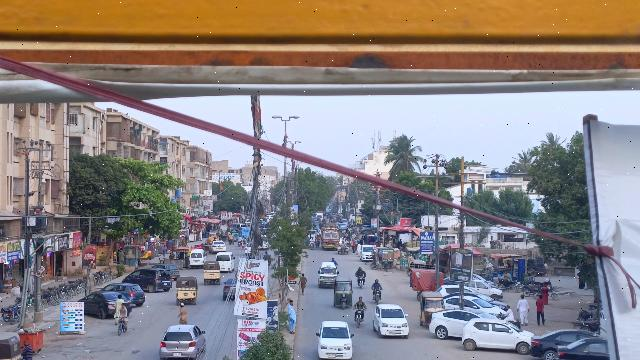Bike: (354, 307, 367, 327), (371, 289, 384, 306), (356, 277, 367, 291)
Car: (461, 317, 531, 353), (429, 307, 490, 340), (529, 327, 589, 357), (159, 323, 206, 360), (314, 318, 356, 359), (76, 292, 130, 318), (371, 303, 410, 339), (446, 294, 504, 317), (120, 268, 172, 293), (553, 336, 607, 360), (100, 282, 145, 307), (221, 276, 236, 300)
Person: (514, 291, 531, 324), (286, 298, 299, 337), (532, 294, 547, 327), (297, 271, 309, 297), (113, 294, 124, 322), (176, 301, 190, 323), (21, 339, 34, 360), (370, 278, 384, 292), (354, 265, 368, 279), (501, 303, 514, 318), (354, 295, 366, 311)
Rickshaw: (417, 290, 445, 328), (174, 276, 200, 307), (332, 275, 354, 310), (203, 260, 221, 286)
Van: (316, 261, 339, 289), (215, 252, 236, 272), (187, 249, 207, 269)
